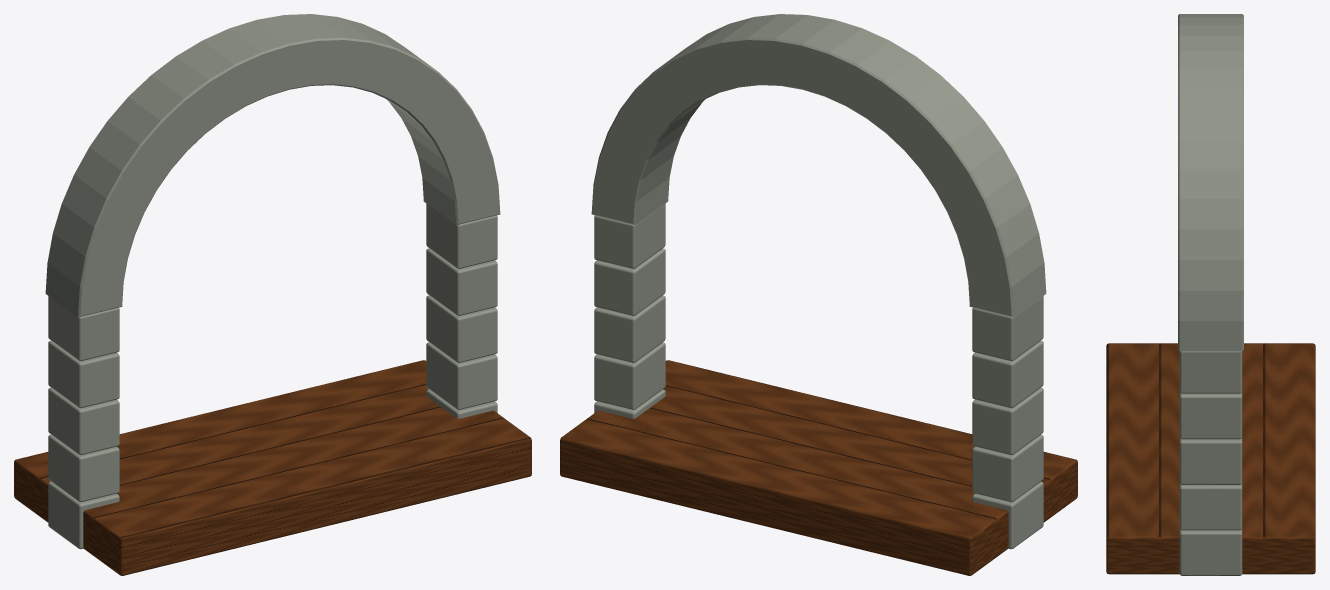
The model's file is undercity-sewers-and-thieves-den-arched-den-threshold-0ae9bc06__25058.glb.
3 views of the same model, side by side, from view 1: azimuth 30°, elevation 25°; view 2: azimuth 150°, elevation 25°; view 3: azimuth 270°, elevation 25° (orthographic). The views are drawn at different scales.
Visible parts, largest first — view 1: arched-den-threshold; view 2: arched-den-threshold; view 3: arched-den-threshold.
Boxes of the visible parts, x1,y1,x2,y2 form: arched-den-threshold: [14, 14, 531, 575]; arched-den-threshold: [560, 14, 1077, 575]; arched-den-threshold: [1106, 14, 1315, 575].
Size of the model in its own units: 2.26 by 2.33 by 0.9999.
Materials: 2 (1 with a texture image).
